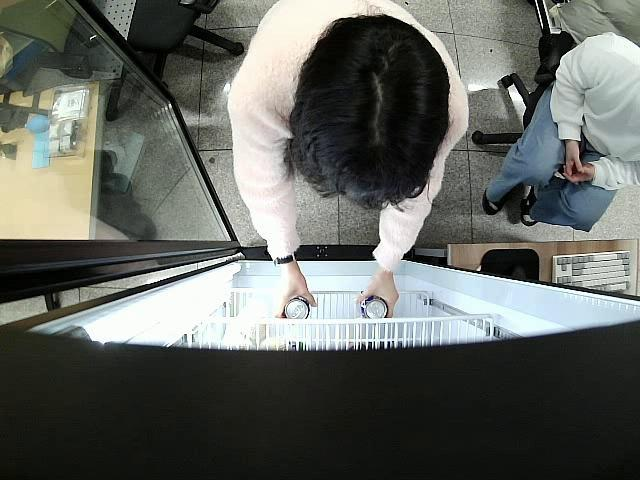14_welchsGrape: (281, 297, 310, 322), (358, 296, 388, 320)
